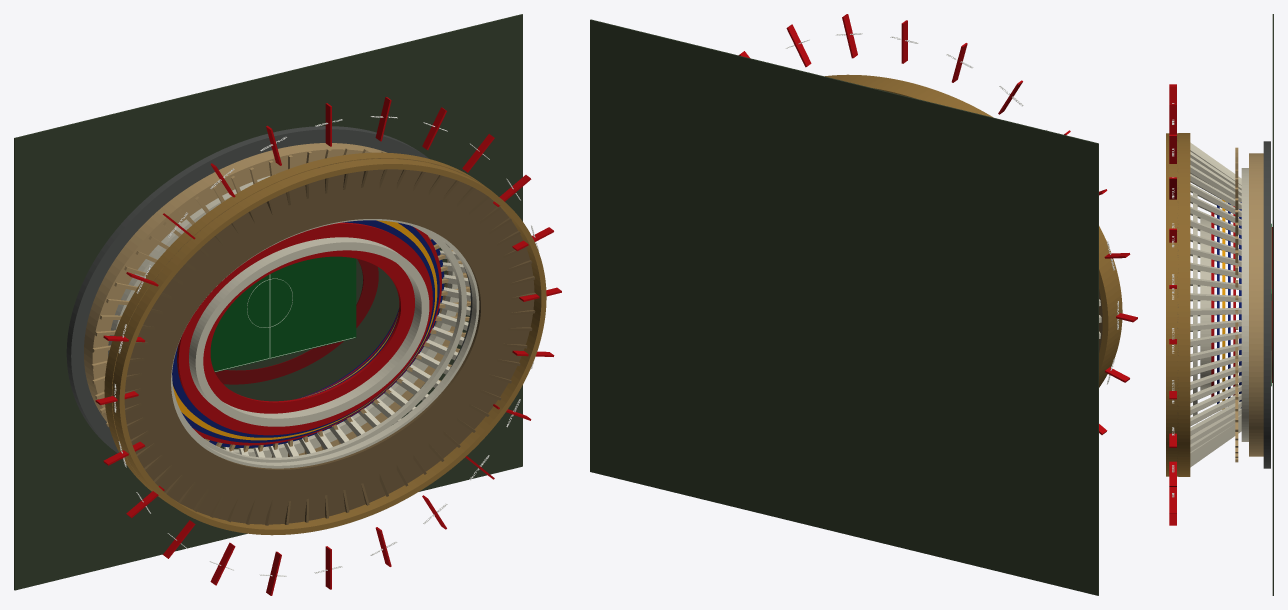
Rendered from Matula_Design_Stadium_Unity.fbx.
The picture shows the model from 3 angles, left to right: view 1: azimuth 30°, elevation 25°; view 2: azimuth 150°, elevation 25°; view 3: azimuth 270°, elevation 25°; orthographic projection. The views are drawn at different scales.
Parts seen in each view (by area): view 1: Ground, Roof_Underside, Concrete_Light, Roof_Gold, Seat_Red, Concrete_Warm, Pitch_Green, Concrete_Dark, Ad_Red, Seat_Blue, Track_Red, Seat_Yellow (+1 smaller); view 2: Ground, Roof_Gold, Ad_Red; view 3: Concrete_Light, Roof_Gold, Concrete_Warm, Concrete_Dark, Ad_Red, Ground, Seat_Blue, Seat_Red, Seat_Yellow, Text_White, Track_Red.
Part boxes in pixels (x1,y1,x2,y2): Ground: (14,14,522,590); Roof_Underside: (112,158,535,525); Concrete_Light: (108,176,479,468); Roof_Gold: (104,152,546,535); Seat_Red: (177,222,441,445); Concrete_Warm: (84,143,470,457); Pitch_Green: (210,256,356,372); Concrete_Dark: (66,126,472,452); Ad_Red: (95,97,561,595); Seat_Blue: (172,220,444,447); Track_Red: (215,259,378,384); Seat_Yellow: (173,220,437,440); Ground: (590,19,1098,595); Roof_Gold: (825,74,1122,387); Ad_Red: (739,14,1137,434); Concrete_Light: (1190,142,1248,467); Roof_Gold: (1166,133,1190,476); Concrete_Warm: (1235,147,1263,462); Concrete_Dark: (1263,141,1270,468); Ad_Red: (1169,84,1176,525); Ground: (1272,14,1273,595); Seat_Blue: (1217,202,1241,408); Seat_Red: (1211,206,1235,396); Seat_Yellow: (1222,199,1225,409); Text_White: (1172,103,1174,497); Track_Red: (1271,227,1272,382).
Bounding box in the file's own units: 200 × 182 × 44.25.
